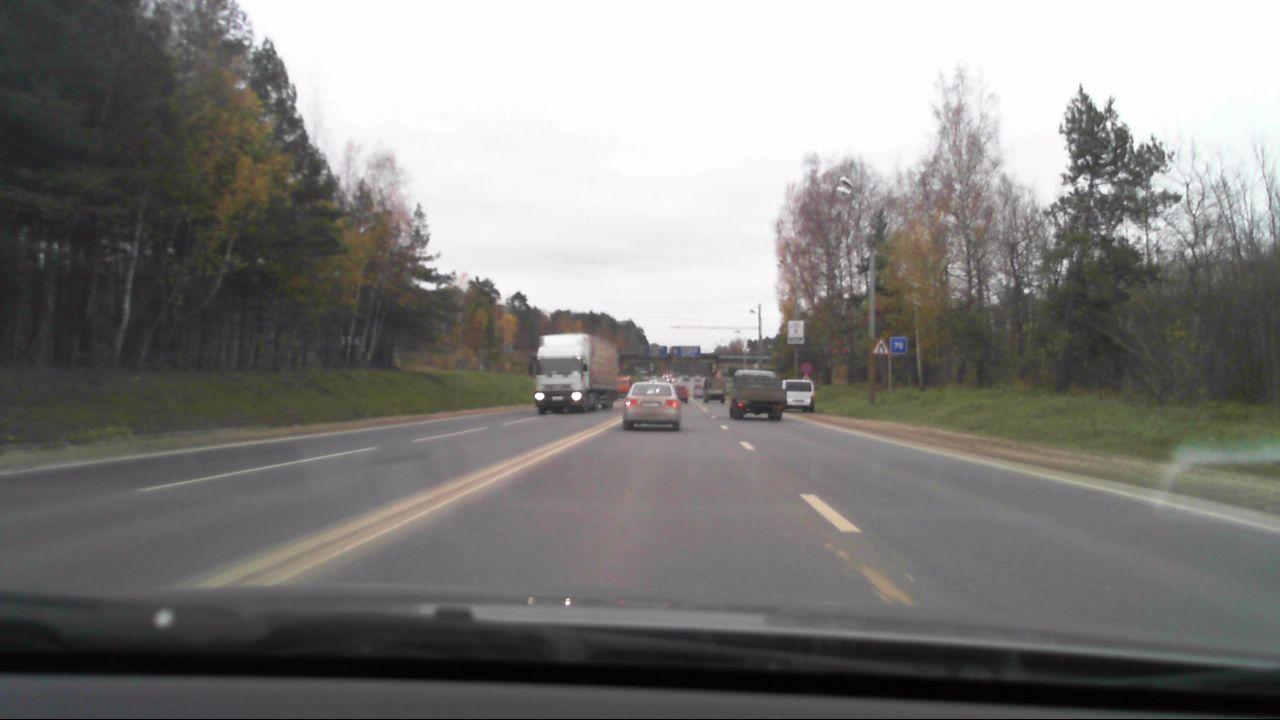1_20_1: (870, 338, 888, 356)
3_27: (801, 361, 814, 374)
6_2: (890, 337, 908, 354)
